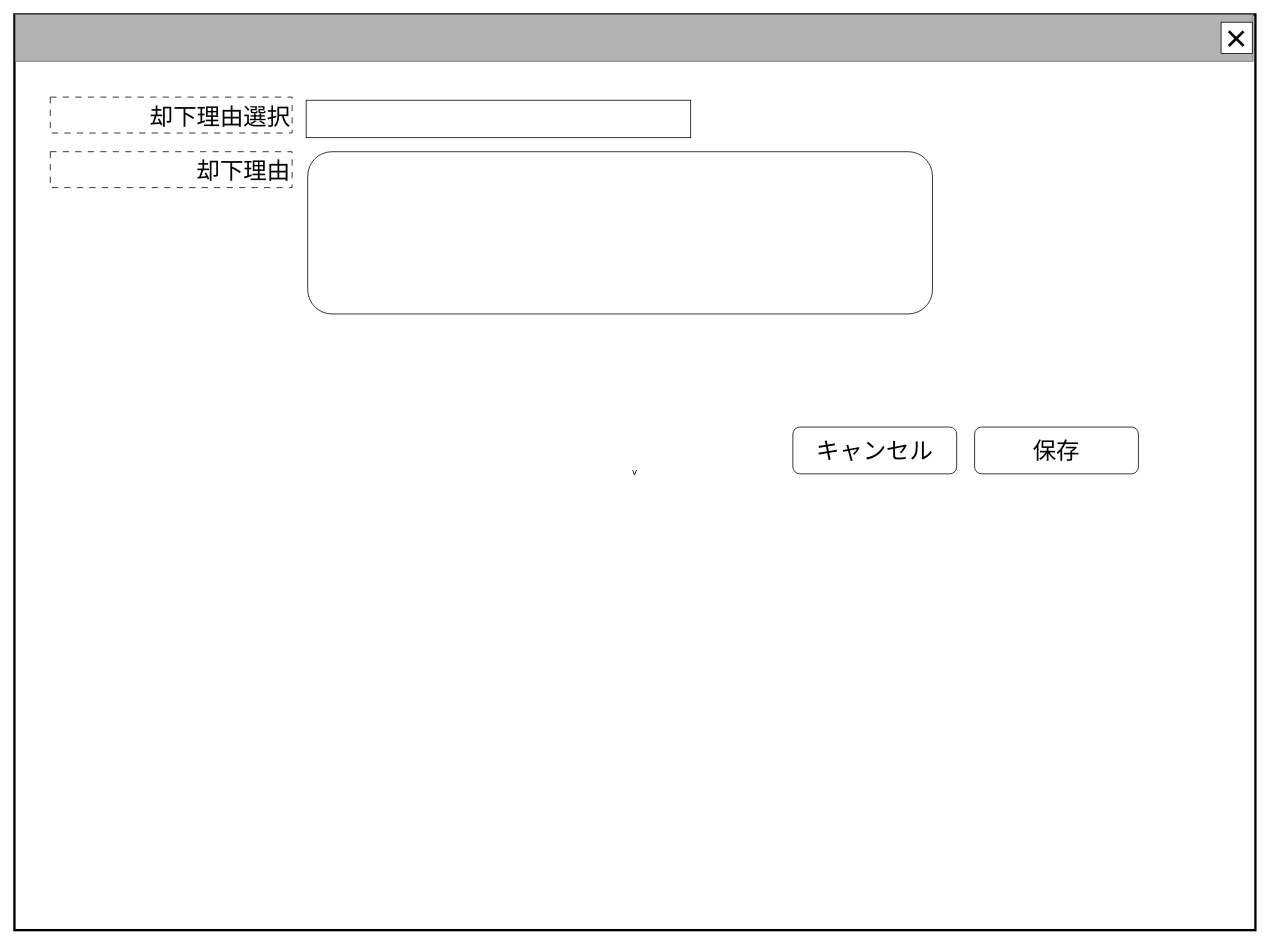
The diagram is 1270 pixels wide and 945 high, and some of its shapes have lost their labels. The shapes that lost their labels are listed below. From the top down, each one's centre as x and y in pixels, then its label:
At pixel 498 118: "▼登録済の仕様と重複している".
At pixel 619 232: "指定にミスがある".
